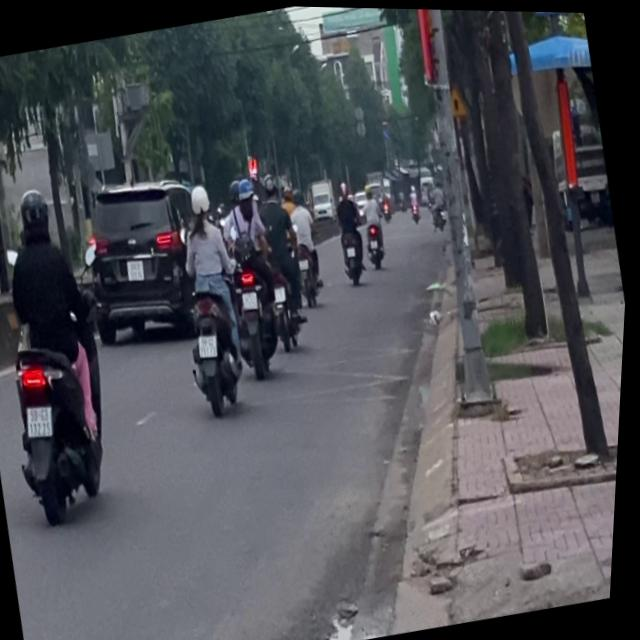helmet: (13, 184, 57, 244), (186, 180, 215, 220), (232, 174, 258, 210)
licenseplate: (0, 177, 139, 531), (158, 176, 264, 418), (210, 170, 297, 378)
nohelmet: (27, 402, 57, 436), (198, 331, 221, 357), (242, 287, 261, 309)
